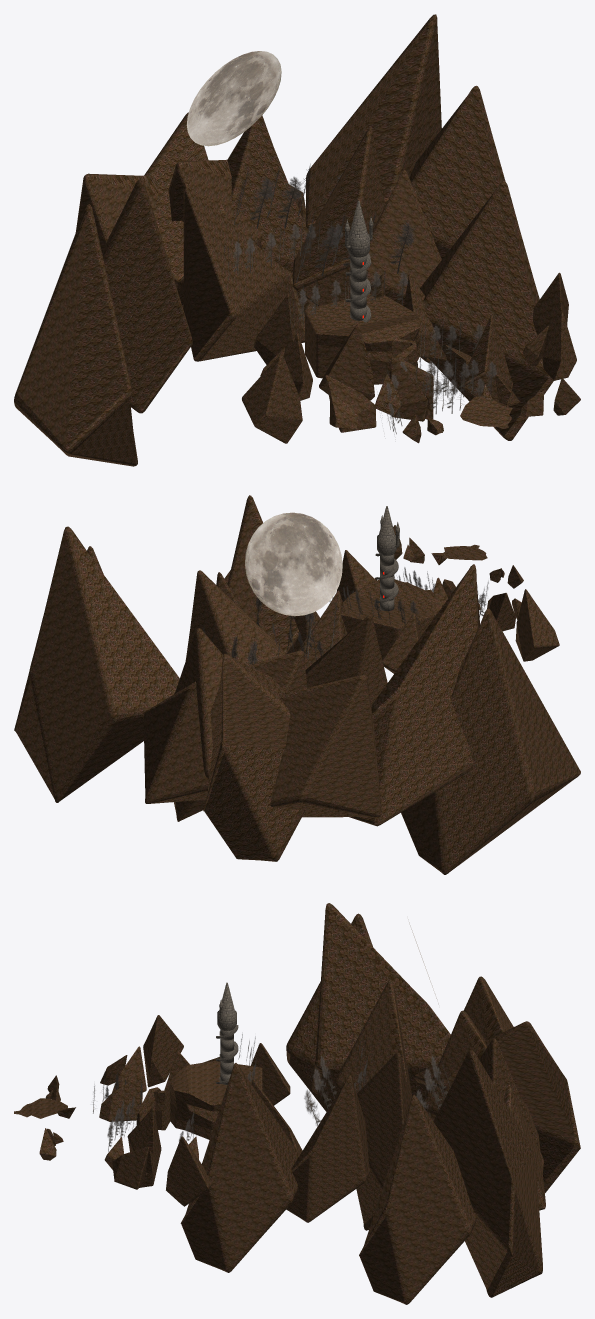
The model's file is tower.glb.
3 renders of one model, top to bottom at view 1: azimuth 30°, elevation 25°; view 2: azimuth 150°, elevation 25°; view 3: azimuth 270°, elevation 25°, orthographic. The views are drawn at different scales.
Visible parts, largest first — view 1: Plane, Circle, Plane.013, Plane.008, Cube, Cube.003, Plane.002, Plane.010, Plane.011, Plane.003, Plane.012, Plane.001 (+1 smaller); view 2: Plane, Circle, Cube, Cube.003, Plane.008; view 3: Plane, Cube, Plane.008, Plane.013, Cube.003.
Part boxes in pixels (x1,y1,x2,y2): Plane: (14, 14, 580, 466); Circle: (186, 51, 281, 146); Plane.013: (231, 164, 341, 228); Plane.008: (296, 212, 414, 282); Cube: (345, 253, 371, 322); Cube.003: (344, 200, 373, 257); Plane.002: (432, 359, 496, 399); Plane.010: (419, 322, 483, 361); Plane.011: (279, 221, 342, 260); Plane.003: (415, 356, 478, 395); Plane.012: (224, 232, 275, 280); Plane.001: (422, 375, 484, 414); Plane: (14, 495, 580, 874); Circle: (245, 512, 342, 616); Cube: (375, 553, 398, 610); Cube.003: (377, 506, 399, 555); Plane.008: (256, 597, 337, 658); Plane: (14, 903, 580, 1304); Cube: (216, 1025, 238, 1084); Plane.008: (304, 1055, 336, 1125); Plane.013: (416, 1055, 450, 1120); Cube.003: (217, 982, 236, 1030).
Bounding box in the file's own units: 1042 × 719 × 1170.
5 materials, 4 textured.
